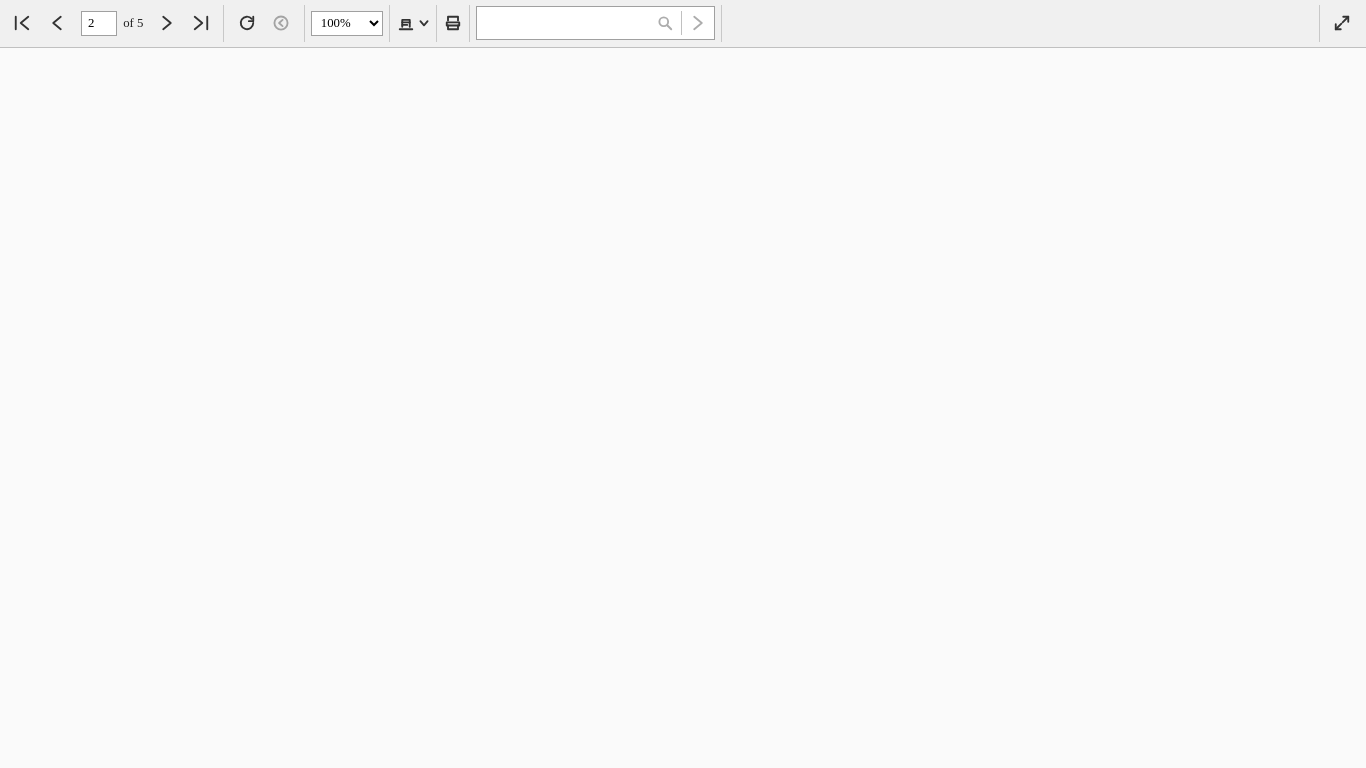
it: ViewerToolbar native chrome › opens a Print settings dialog without fetching or downloading a PDF
Click the button named "Print" at (453, 23), box [437,2,469,44]
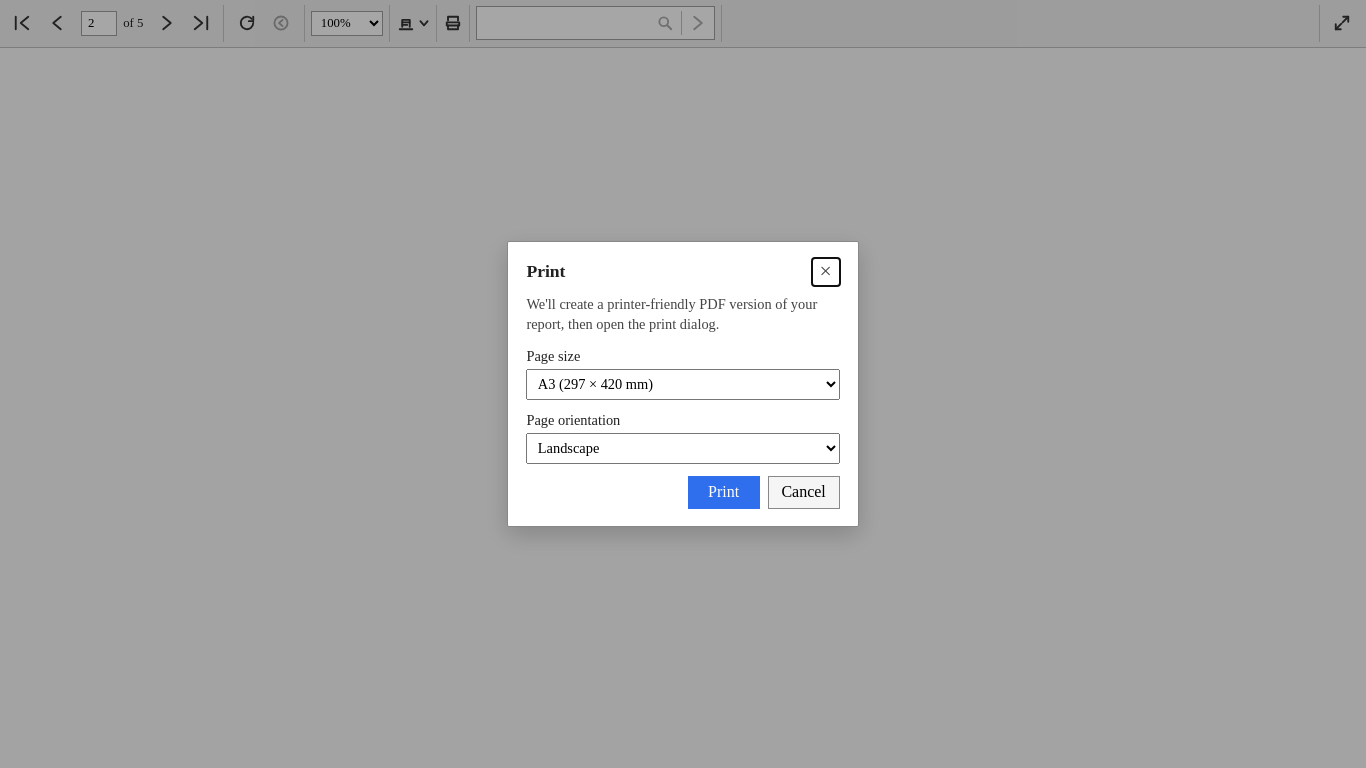
Expected: the dialog "Print" is shown, [507,241,859,527]
Expected: the text "printer-friendly PDF" is shown, [526,296,817,332]
Expected: the dropdown labelled "Page size" shows "A3 (297 × 420 mm)", [526,369,840,400]
